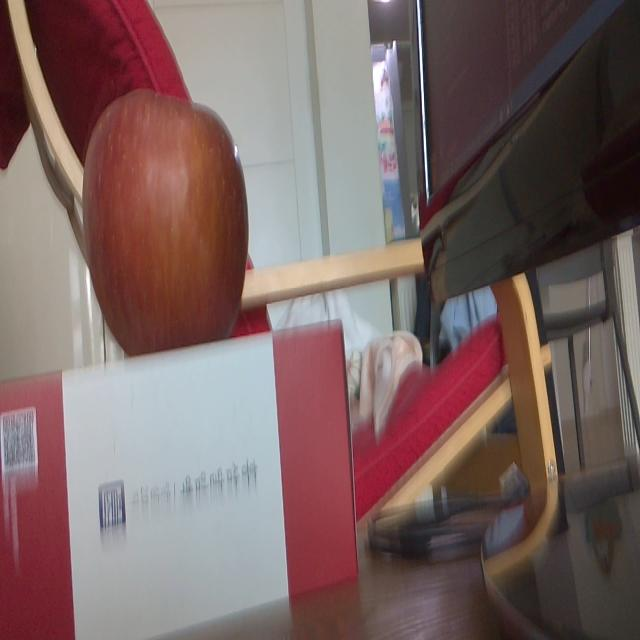apple: (82, 90, 250, 356)
